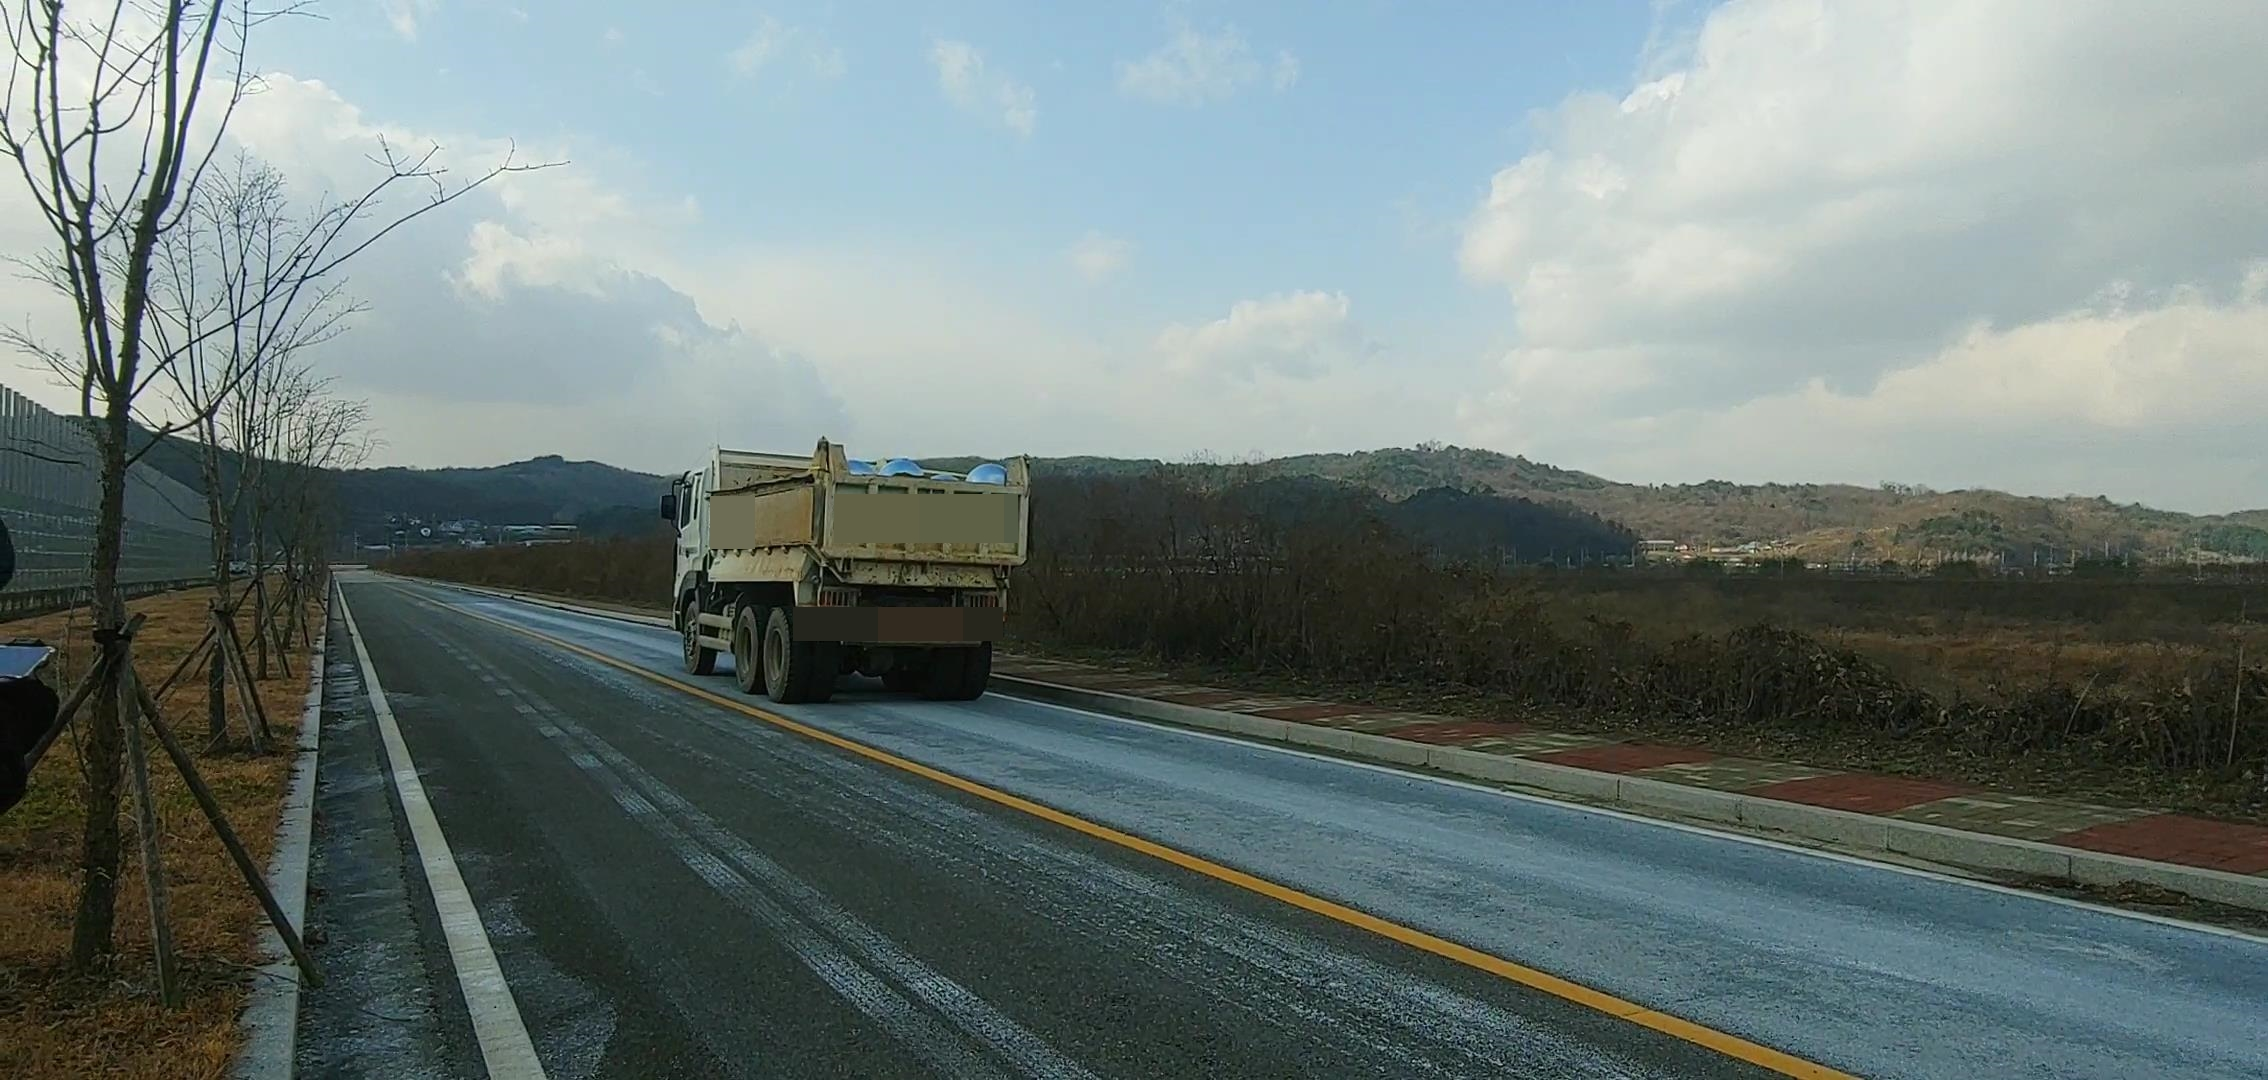불법차량: (660, 434, 1031, 703)
